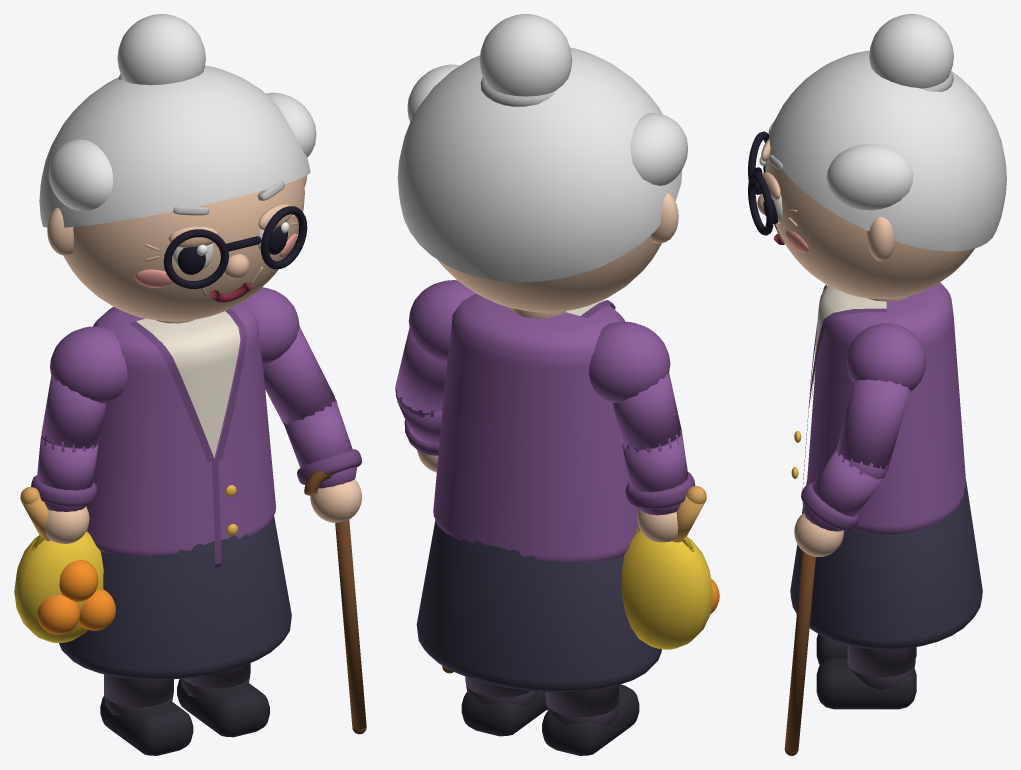
The model's file is ch_passer_grandma.fbx.
3 views of the same model, side by side, from view 1: azimuth 30°, elevation 25°; view 2: azimuth 150°, elevation 25°; view 3: azimuth 270°, elevation 25° (orthographic). The views are drawn at different scales.
Visible parts, largest first — view 1: ch_passer_grandma__base, ch_passer_grandma__anim_arm_l, ch_passer_grandma__anim_arm_r, ch_passer_grandma__anim_leg_l, ch_passer_grandma__anim_leg_r; view 2: ch_passer_grandma__base, ch_passer_grandma__anim_arm_l, ch_passer_grandma__anim_leg_l, ch_passer_grandma__anim_arm_r, ch_passer_grandma__anim_leg_r; view 3: ch_passer_grandma__base, ch_passer_grandma__anim_arm_r, ch_passer_grandma__anim_leg_r, ch_passer_grandma__anim_leg_l.
Part boxes in pixels (x1,y1,x2,y2): ch_passer_grandma__base: [39, 14, 316, 679]; ch_passer_grandma__anim_arm_l: [14, 376, 115, 642]; ch_passer_grandma__anim_arm_r: [263, 326, 366, 734]; ch_passer_grandma__anim_leg_l: [100, 674, 193, 755]; ch_passer_grandma__anim_leg_r: [177, 663, 269, 737]; ch_passer_grandma__base: [397, 14, 687, 692]; ch_passer_grandma__anim_arm_l: [612, 372, 719, 649]; ch_passer_grandma__anim_leg_l: [542, 684, 639, 755]; ch_passer_grandma__anim_arm_r: [395, 327, 453, 673]; ch_passer_grandma__anim_leg_r: [461, 676, 547, 736]; ch_passer_grandma__base: [748, 14, 1006, 649]; ch_passer_grandma__anim_arm_r: [784, 379, 910, 755]; ch_passer_grandma__anim_leg_r: [816, 645, 916, 709]; ch_passer_grandma__anim_leg_l: [816, 634, 916, 664].
Size of the model in its own units: 0.6945 by 1.49 by 0.5185.
